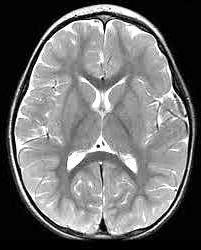Normal_Brain: (10, 10, 201, 250)
